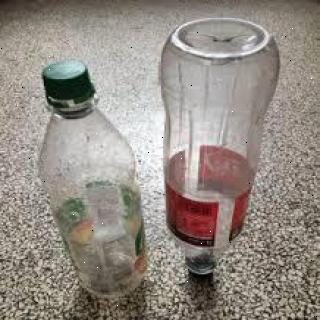Plastic-bottle: (157, 11, 284, 285), (32, 58, 155, 303)
